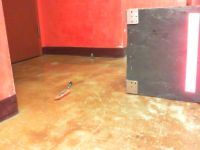switch: (184, 13, 200, 93)
